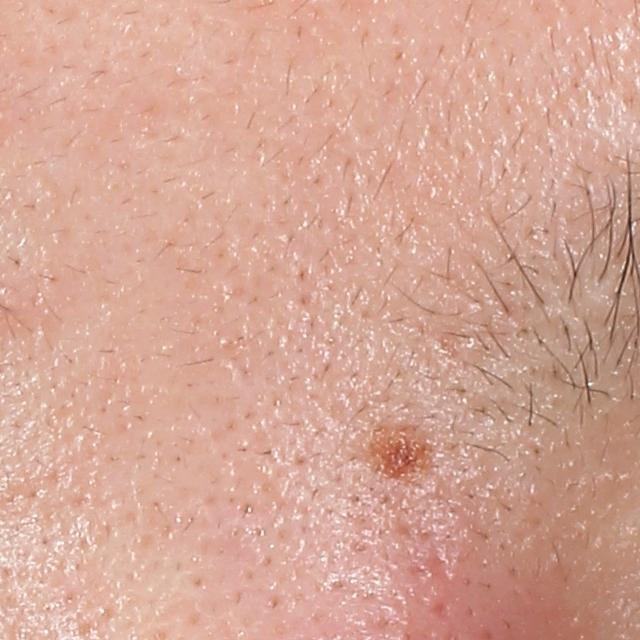nevus: (374, 424, 436, 486)
